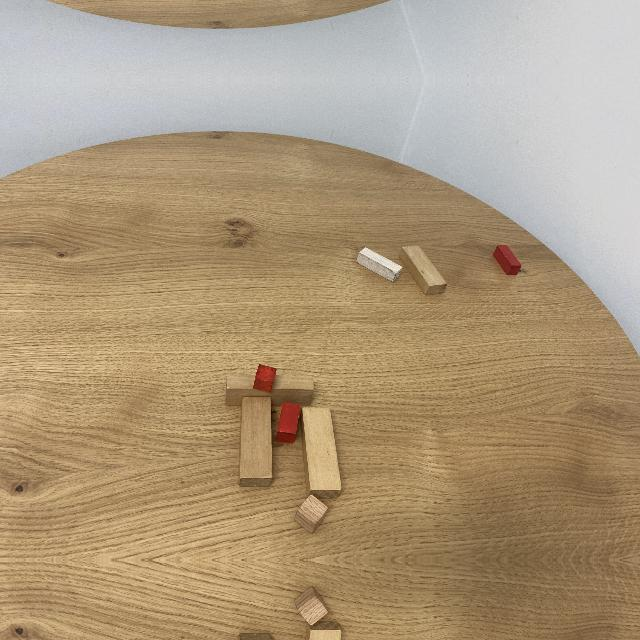block: (356, 247, 403, 282)
cube: (294, 494, 329, 534), (294, 586, 329, 626)
jenga: (300, 407, 342, 498), (240, 394, 272, 484), (225, 374, 313, 404), (399, 245, 448, 295), (306, 622, 342, 640)
red block: (276, 402, 301, 443), (492, 245, 522, 275)
red cube: (253, 364, 277, 392)
